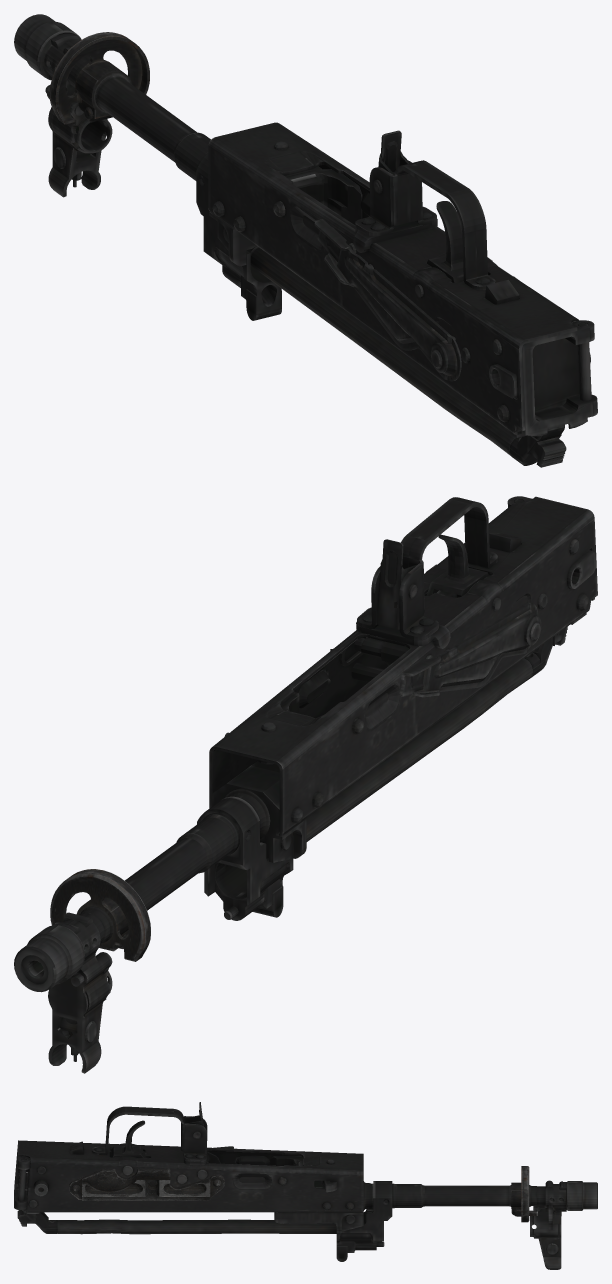
3 views of the same model, one above another, from view 1: azimuth 30°, elevation 25°; view 2: azimuth 150°, elevation 25°; view 3: azimuth 270°, elevation 25° (orthographic). The views are drawn at different scales.
Parts seen in each view (by area): view 1: TW_583990e32459771419544dd2_PZ_Import; view 2: TW_583990e32459771419544dd2_PZ_Import; view 3: TW_583990e32459771419544dd2_PZ_Import.
Part boxes in pixels (x1,y1,x2,y2): TW_583990e32459771419544dd2_PZ_Import: [14, 14, 597, 467]; TW_583990e32459771419544dd2_PZ_Import: [14, 496, 597, 1073]; TW_583990e32459771419544dd2_PZ_Import: [14, 1102, 597, 1269].
Bounding box in the file's own units: 0.0281 × 0.2477 × 0.0758.
Materials: 1 (1 with a texture image).
